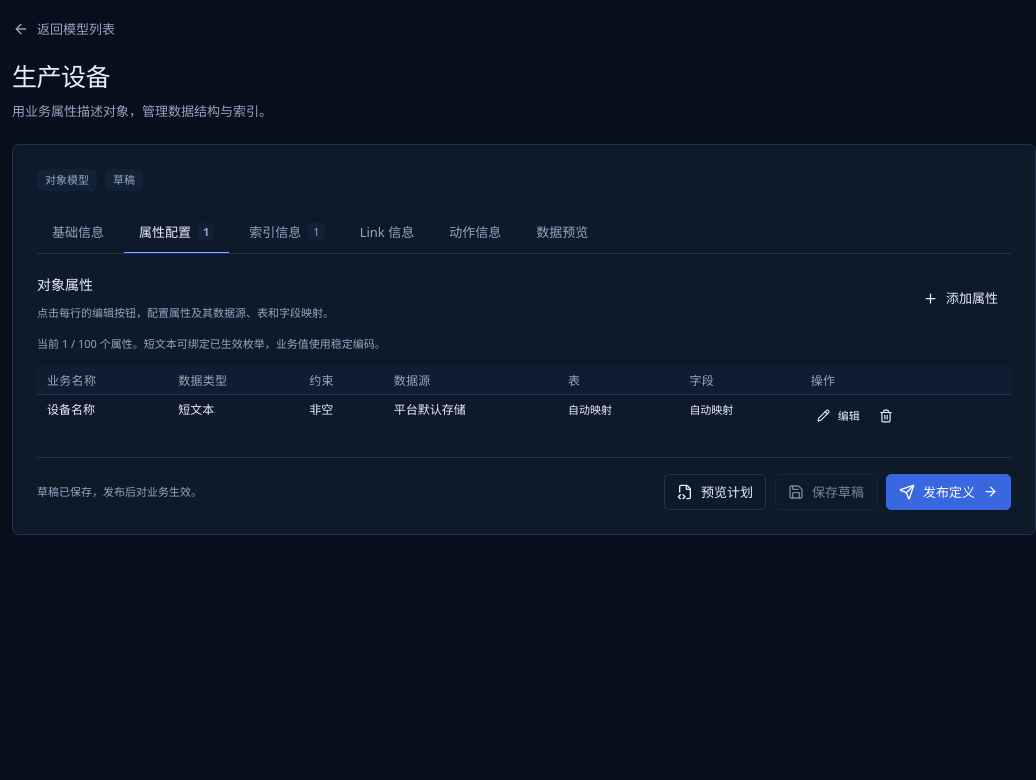
Test case: 对象编辑页签 › 关系按稳定ID包含入站、出站、自关联及跨分类，排除无关和异租户定义
Click the tab "Link 信息": (387, 232) [345,211,429,254]
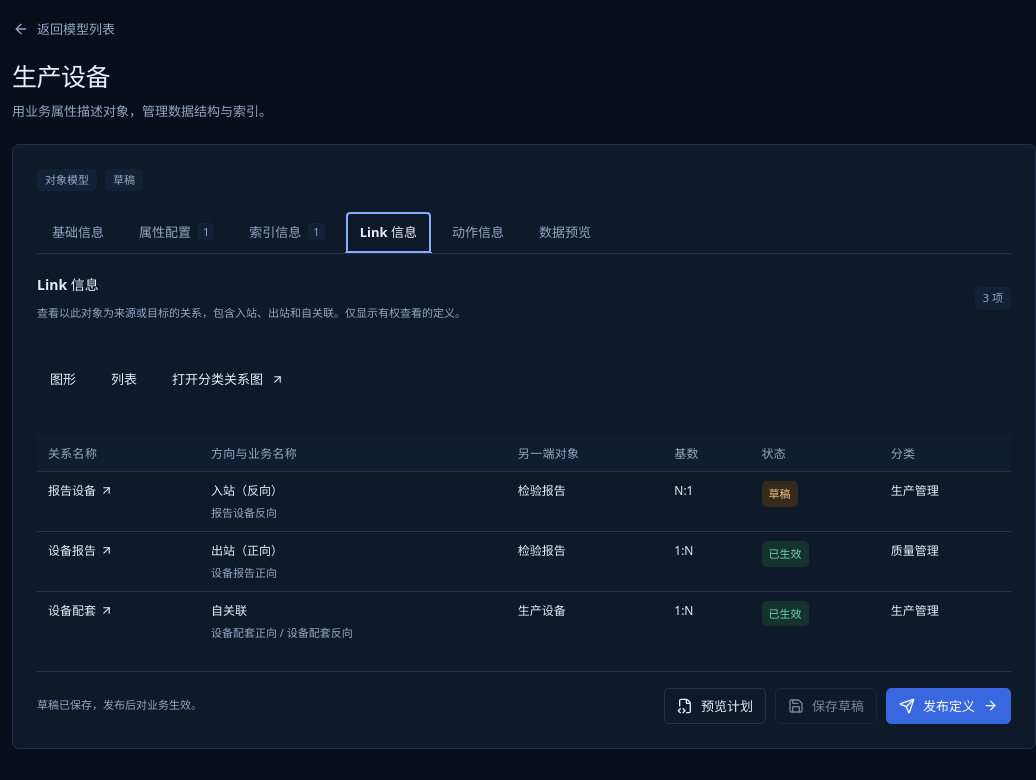
Now the number of links "设备配套" is 1, box [48,601,113,620]
Now the panel "Link 信息" shows "检验报告", box [518,482,566,499]
Now the panel "Link 信息" shows "设备报告正向", box [211,565,277,580]
